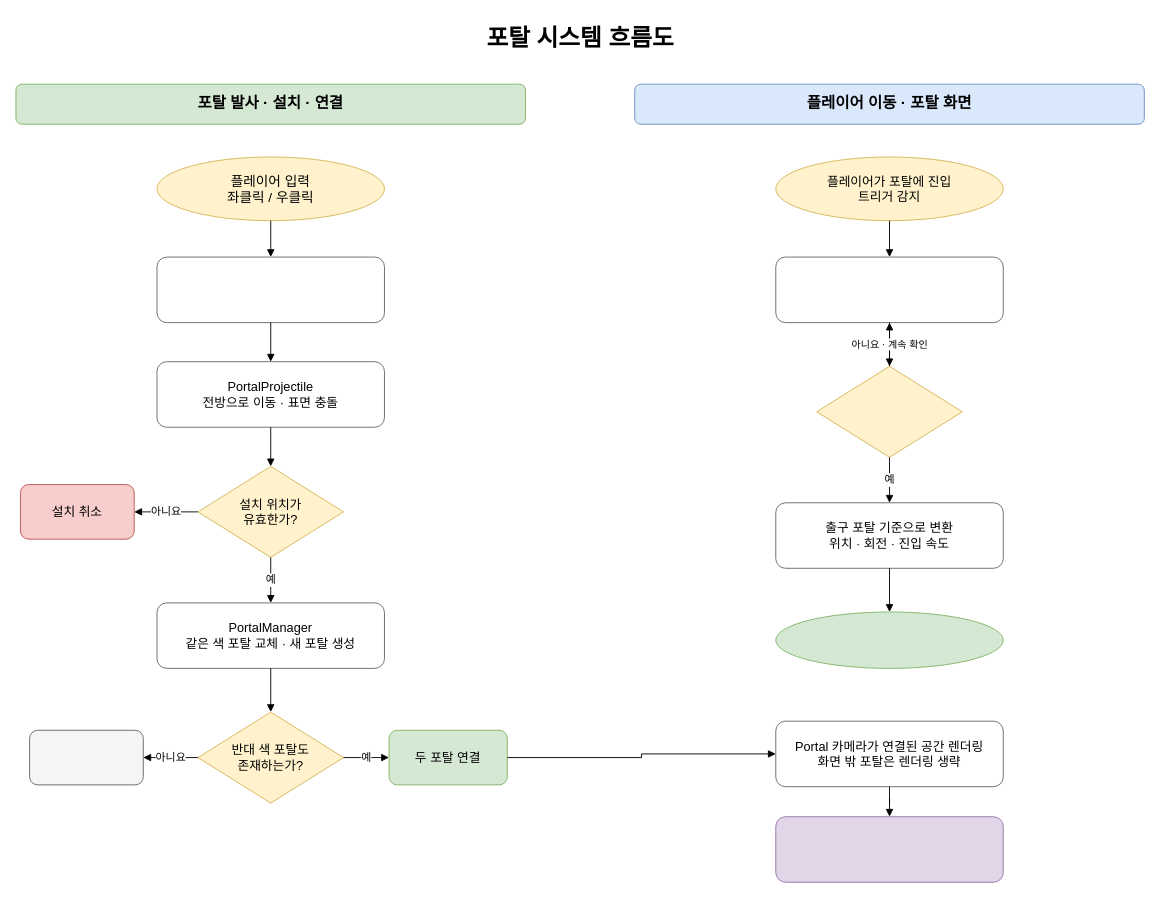
This 1160x898 diagram has some shape labels left out. The centre of each missing label's shape, as x and y in pixels:
PortalGun 포탈 종류 선택 · 투사체 생성: [270,289]
PortalTraveller 통과 위치 · 진입 방향 확인: [889,289]
연결 대기: [86,757]
출구 포탈 바깥으로 이동: [889,639]
통과 조건을 만족하는가?: [889,411]
포탈 안에 포탈이 보이면 설정된 최대 단계까지 반복 (기본 최대 5단계): [889,849]
